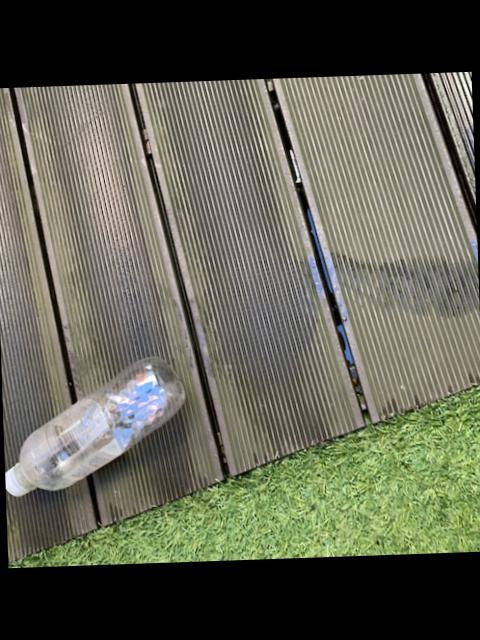plastic: (5, 359, 182, 498)
